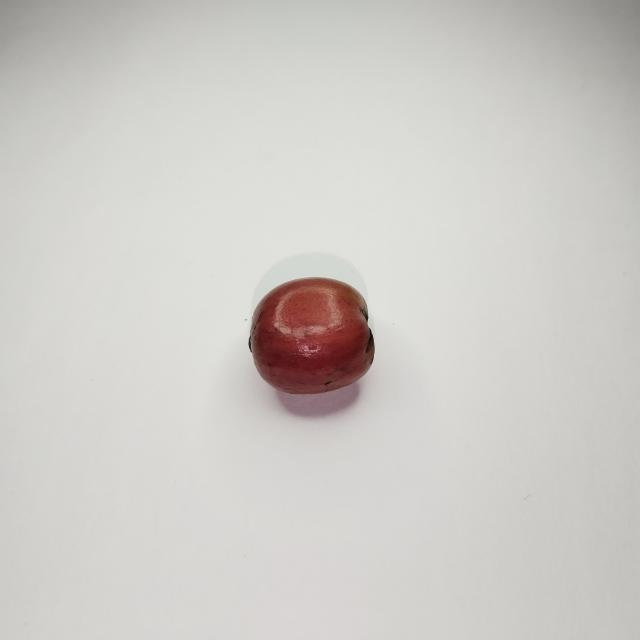Sano: (248, 278, 373, 395)
